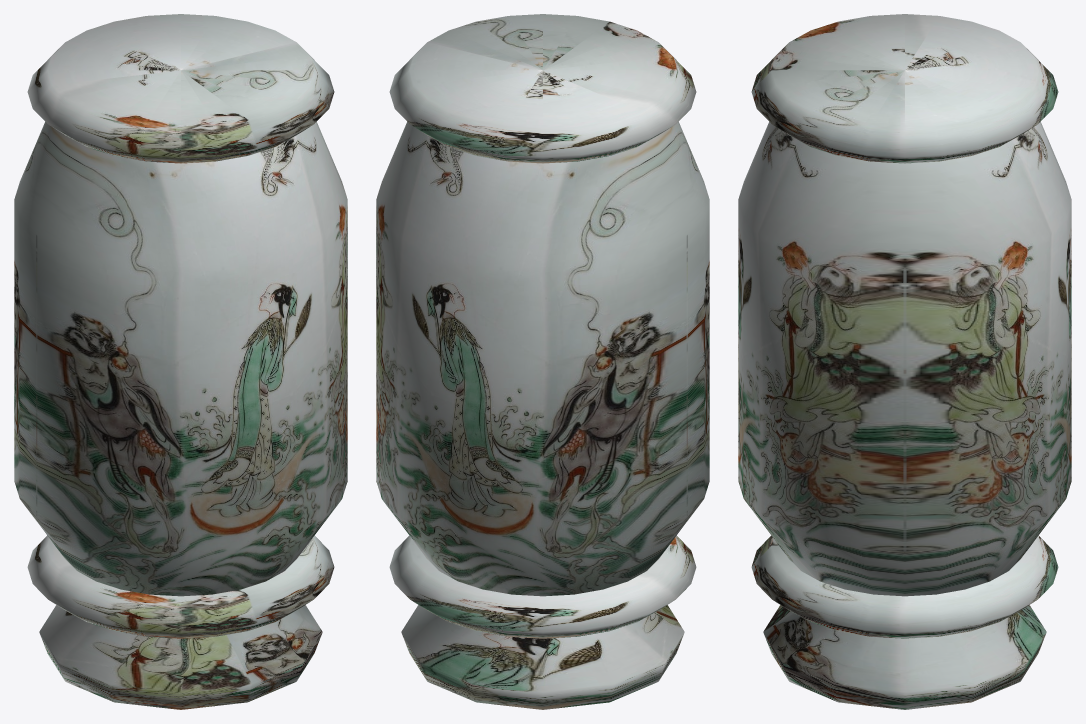
The model's file is lantern_porcelain.obj.
The picture shows the model from 3 angles, left to right: view 1: azimuth 30°, elevation 25°; view 2: azimuth 150°, elevation 25°; view 3: azimuth 270°, elevation 25°; orthographic projection.
Parts seen in each view (by area): view 1: Lantern_body.001, Lantern_cap.003, Porcelain_foot, Lantern_cap.002; view 2: Lantern_body.001, Lantern_cap.003, Porcelain_foot, Lantern_cap.002; view 3: Lantern_body.001, Lantern_cap.003, Porcelain_foot, Lantern_cap.002.
Part boxes in pixels (box(x1,y1,x2,y2)): Lantern_body.001: box(14, 121, 347, 596); Lantern_cap.003: box(27, 14, 334, 163); Porcelain_foot: box(39, 605, 322, 709); Lantern_cap.002: box(27, 535, 334, 638); Lantern_body.001: box(376, 121, 709, 596); Lantern_cap.003: box(389, 14, 696, 163); Porcelain_foot: box(401, 605, 684, 709); Lantern_cap.002: box(389, 535, 696, 638); Lantern_body.001: box(738, 121, 1071, 596); Lantern_cap.003: box(751, 14, 1058, 163); Porcelain_foot: box(763, 605, 1046, 709); Lantern_cap.002: box(751, 535, 1058, 638).
Size of the model in its own units: 14.7 by 28.34 by 14.7.
Materials: 1 (1 with a texture image).
